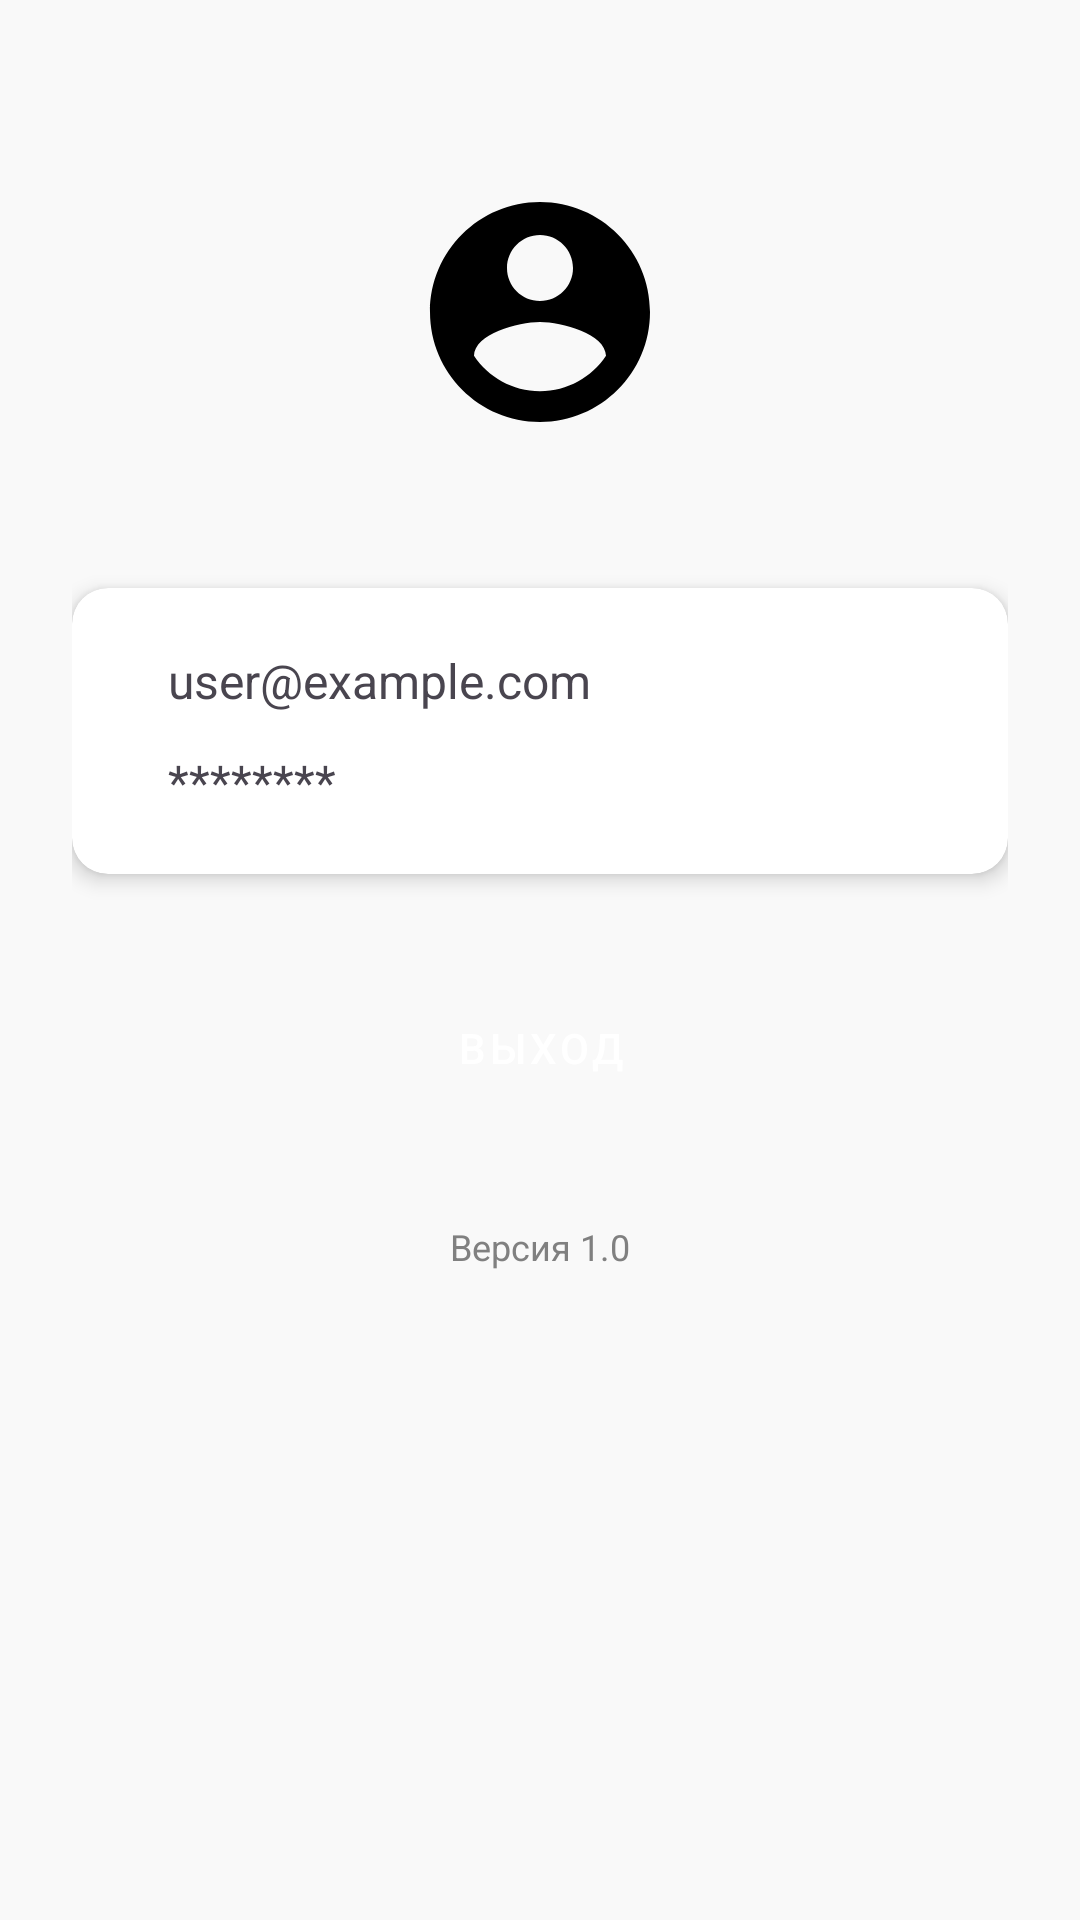

Locate icon controls on the screen. Image size 1080w x 1920h, boxes as [x1=x1, y1=y1, x2=x2, y2=y2].
profile: [x1=429, y1=202, x2=650, y2=422]
